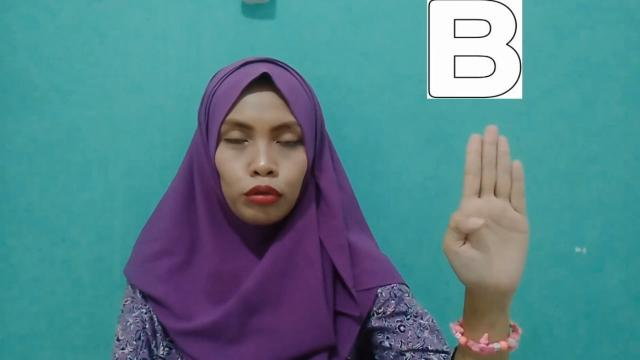B: (442, 125, 530, 293)
